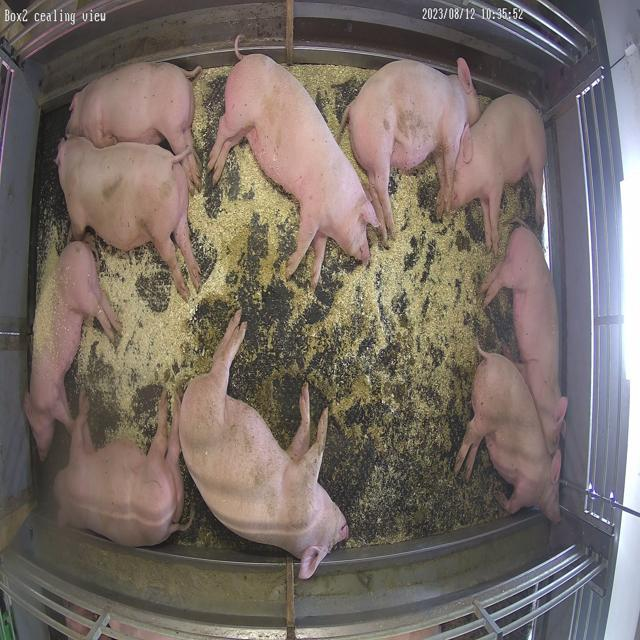Dirt: (190, 216, 421, 472)
Pig: (179, 312, 349, 580), (208, 39, 379, 286), (343, 57, 481, 242), (56, 137, 200, 298), (54, 393, 190, 548), (24, 241, 119, 460), (482, 226, 569, 454), (456, 349, 562, 524), (66, 62, 201, 190), (454, 94, 545, 250)
